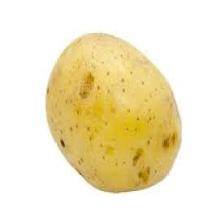Potato: (37, 24, 189, 204)
